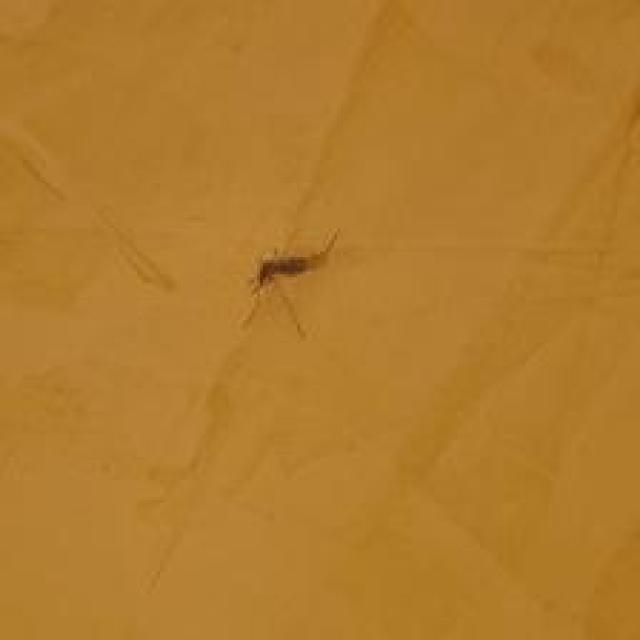Culex: (240, 224, 340, 339)
